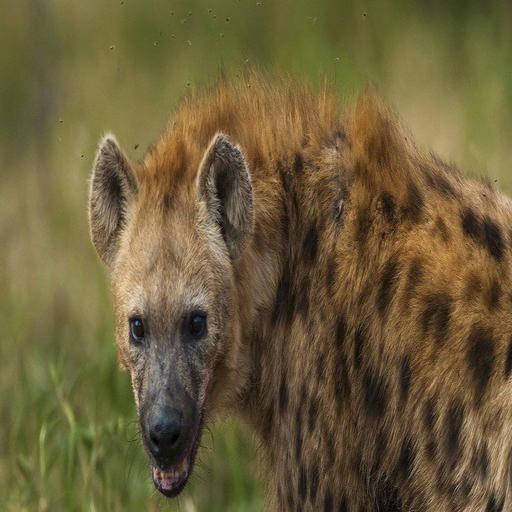Hyena: (90, 62, 512, 512)
